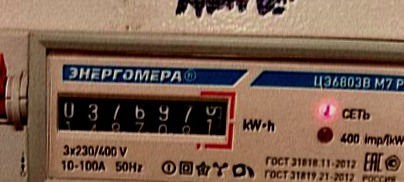0: (64, 99, 78, 119)
1: (206, 117, 217, 135)
3: (88, 102, 102, 122)
6: (135, 100, 149, 121)
7: (183, 102, 196, 125), (111, 100, 125, 121)
9: (159, 102, 172, 123)
screen: (51, 84, 242, 150)
